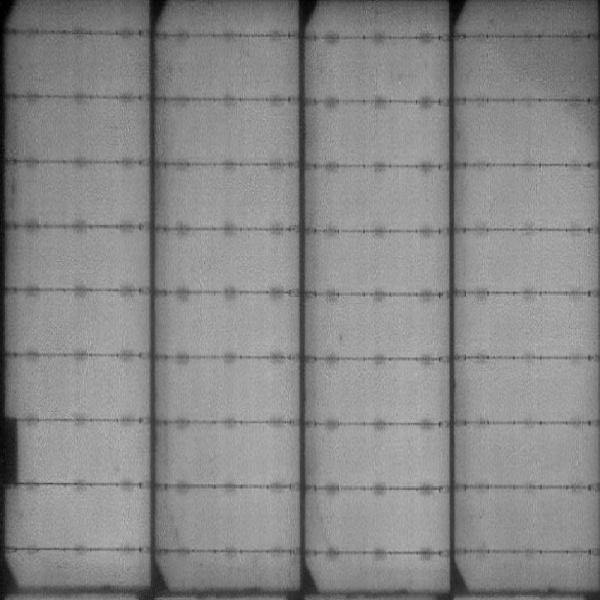black_border: (3, 410, 23, 490)
